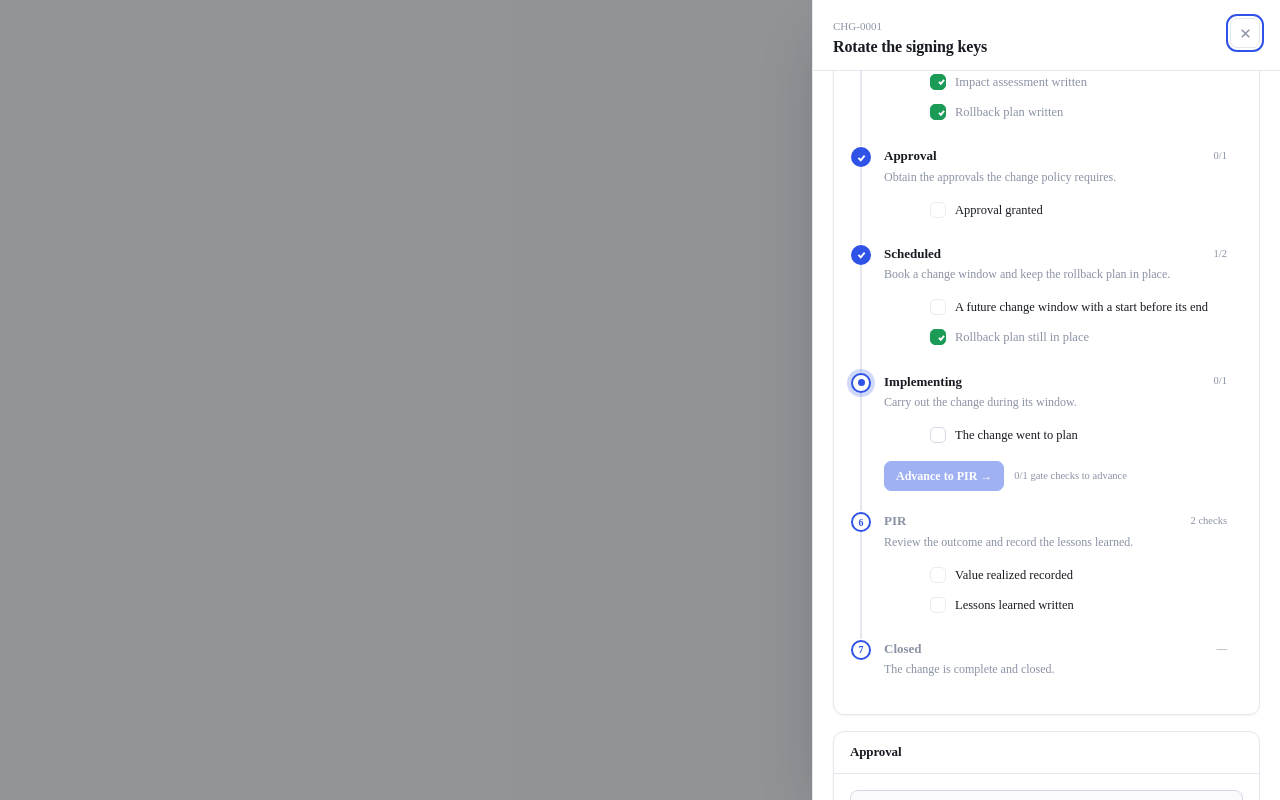
an advance that 409-conflicts shows the inline 'moved since you opened it' message and refetches
(page scrolled)
Expected: the text "CHG-0001" is shown, [833,20,882,32]
Click the checkbox named "went to plan" next to "The change went to plan" at (938, 435), box [930,427,946,443]
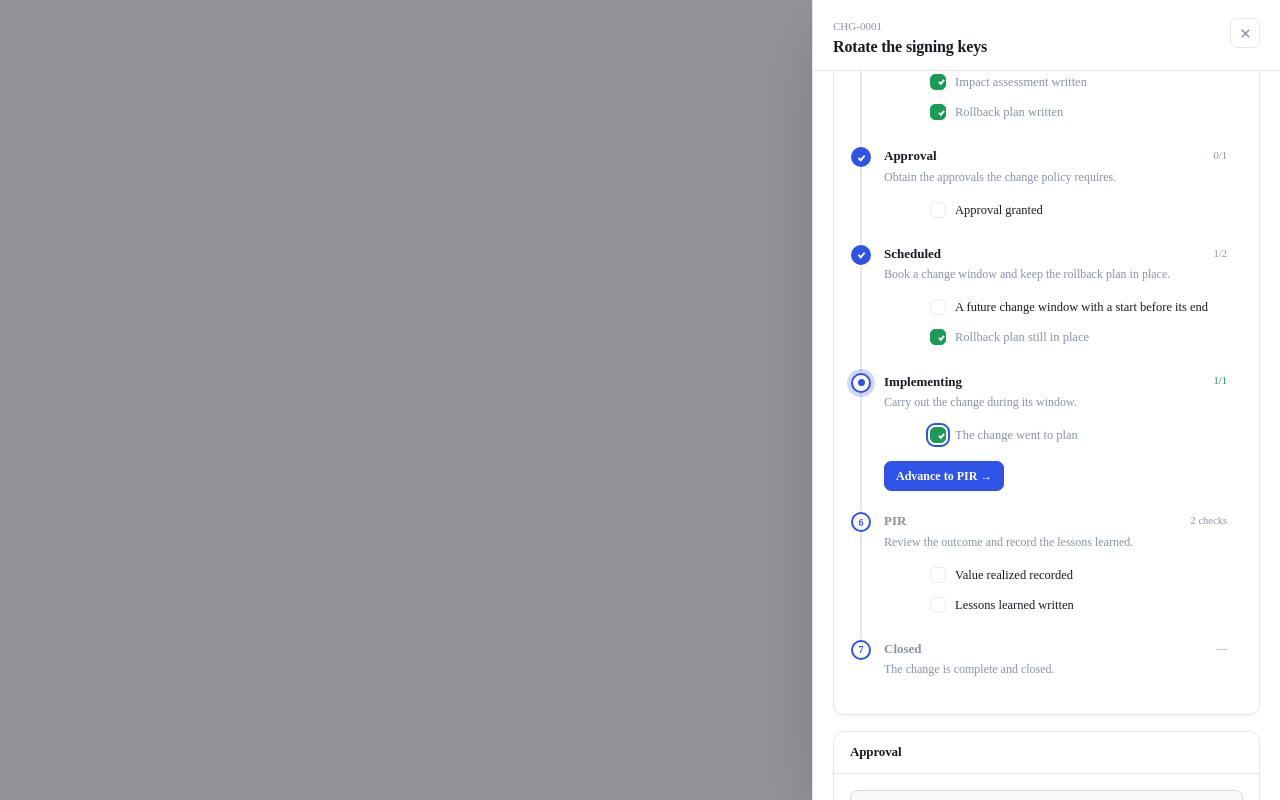
Click the button "Advance to PIR →" at (944, 476), box [884,461,1004,491]
(page scrolled)
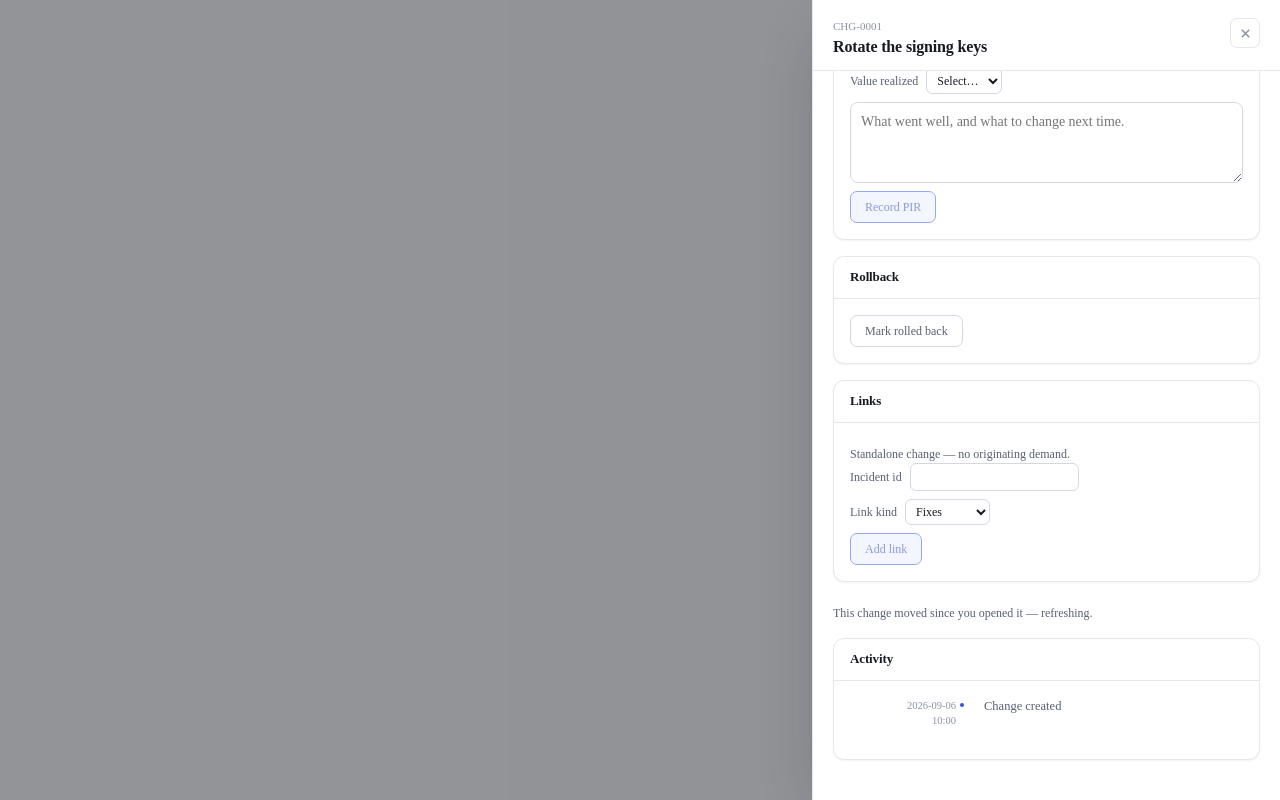
Result: the text "This change moved since you opened it — refreshing." is shown at [833,606,1093,620]
